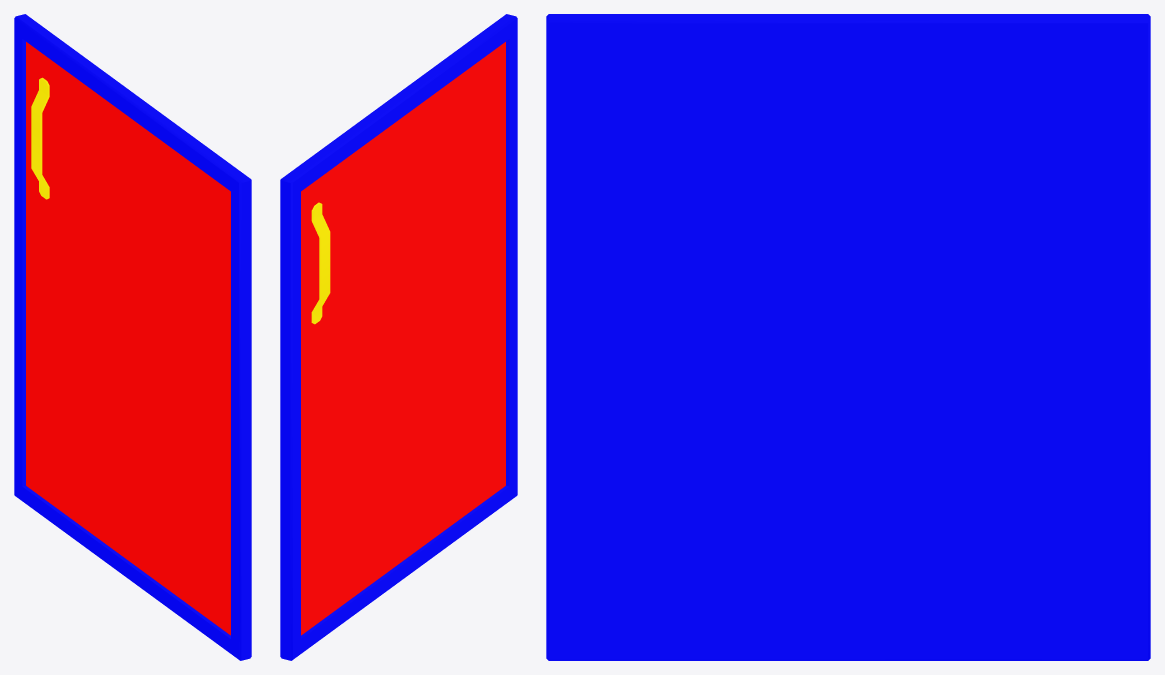
File: SchrankKlappe.fbx
3 renders of one model, left to right at view 1: azimuth 30°, elevation 25°; view 2: azimuth 150°, elevation 25°; view 3: azimuth 270°, elevation 25°, orthographic. The views are drawn at different scales.
Visible parts, largest first — view 1: Rechts; view 2: Rechts; view 3: Rechts.
Part boxes in pixels (x1,y1,x2,y2): Rechts: [14, 14, 251, 660]; Rechts: [280, 14, 517, 660]; Rechts: [546, 14, 1150, 660].
Bounding box in the file's own units: 2.9 × 72.2 × 61.69.
